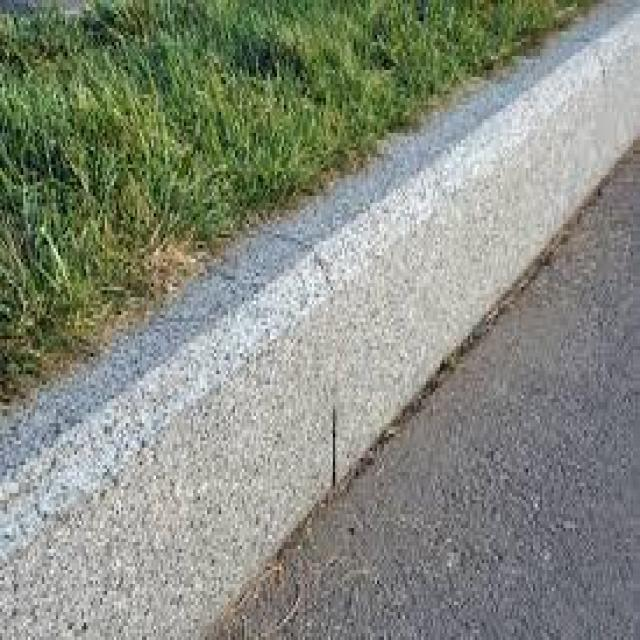bump: (206, 36, 574, 494)
